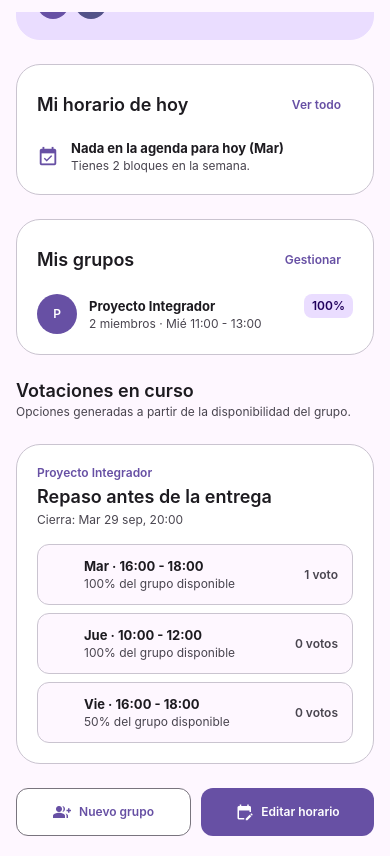
Test case: votar desde «Votaciones en curso» usa la misma alternancia que Votar (G1)
(page scrolled)
Click the text "Jue · 10:00 - 12:00". click: coordinates (143, 635)
box: left=84, top=627, right=202, bottom=643
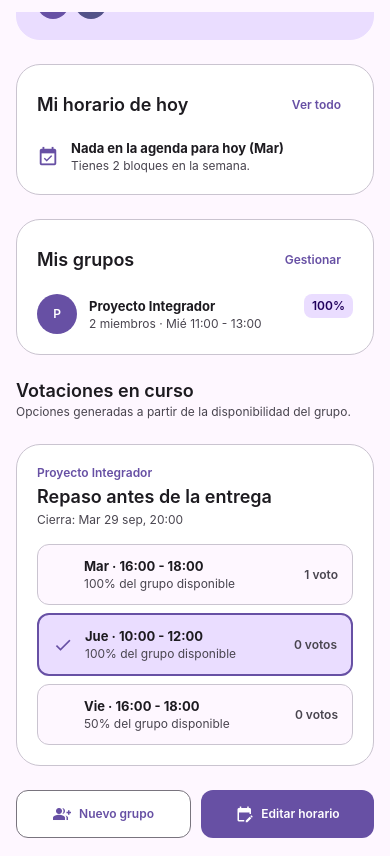
Expected: the text named "Tu voto" is shown, left=53, top=634, right=73, bottom=654
